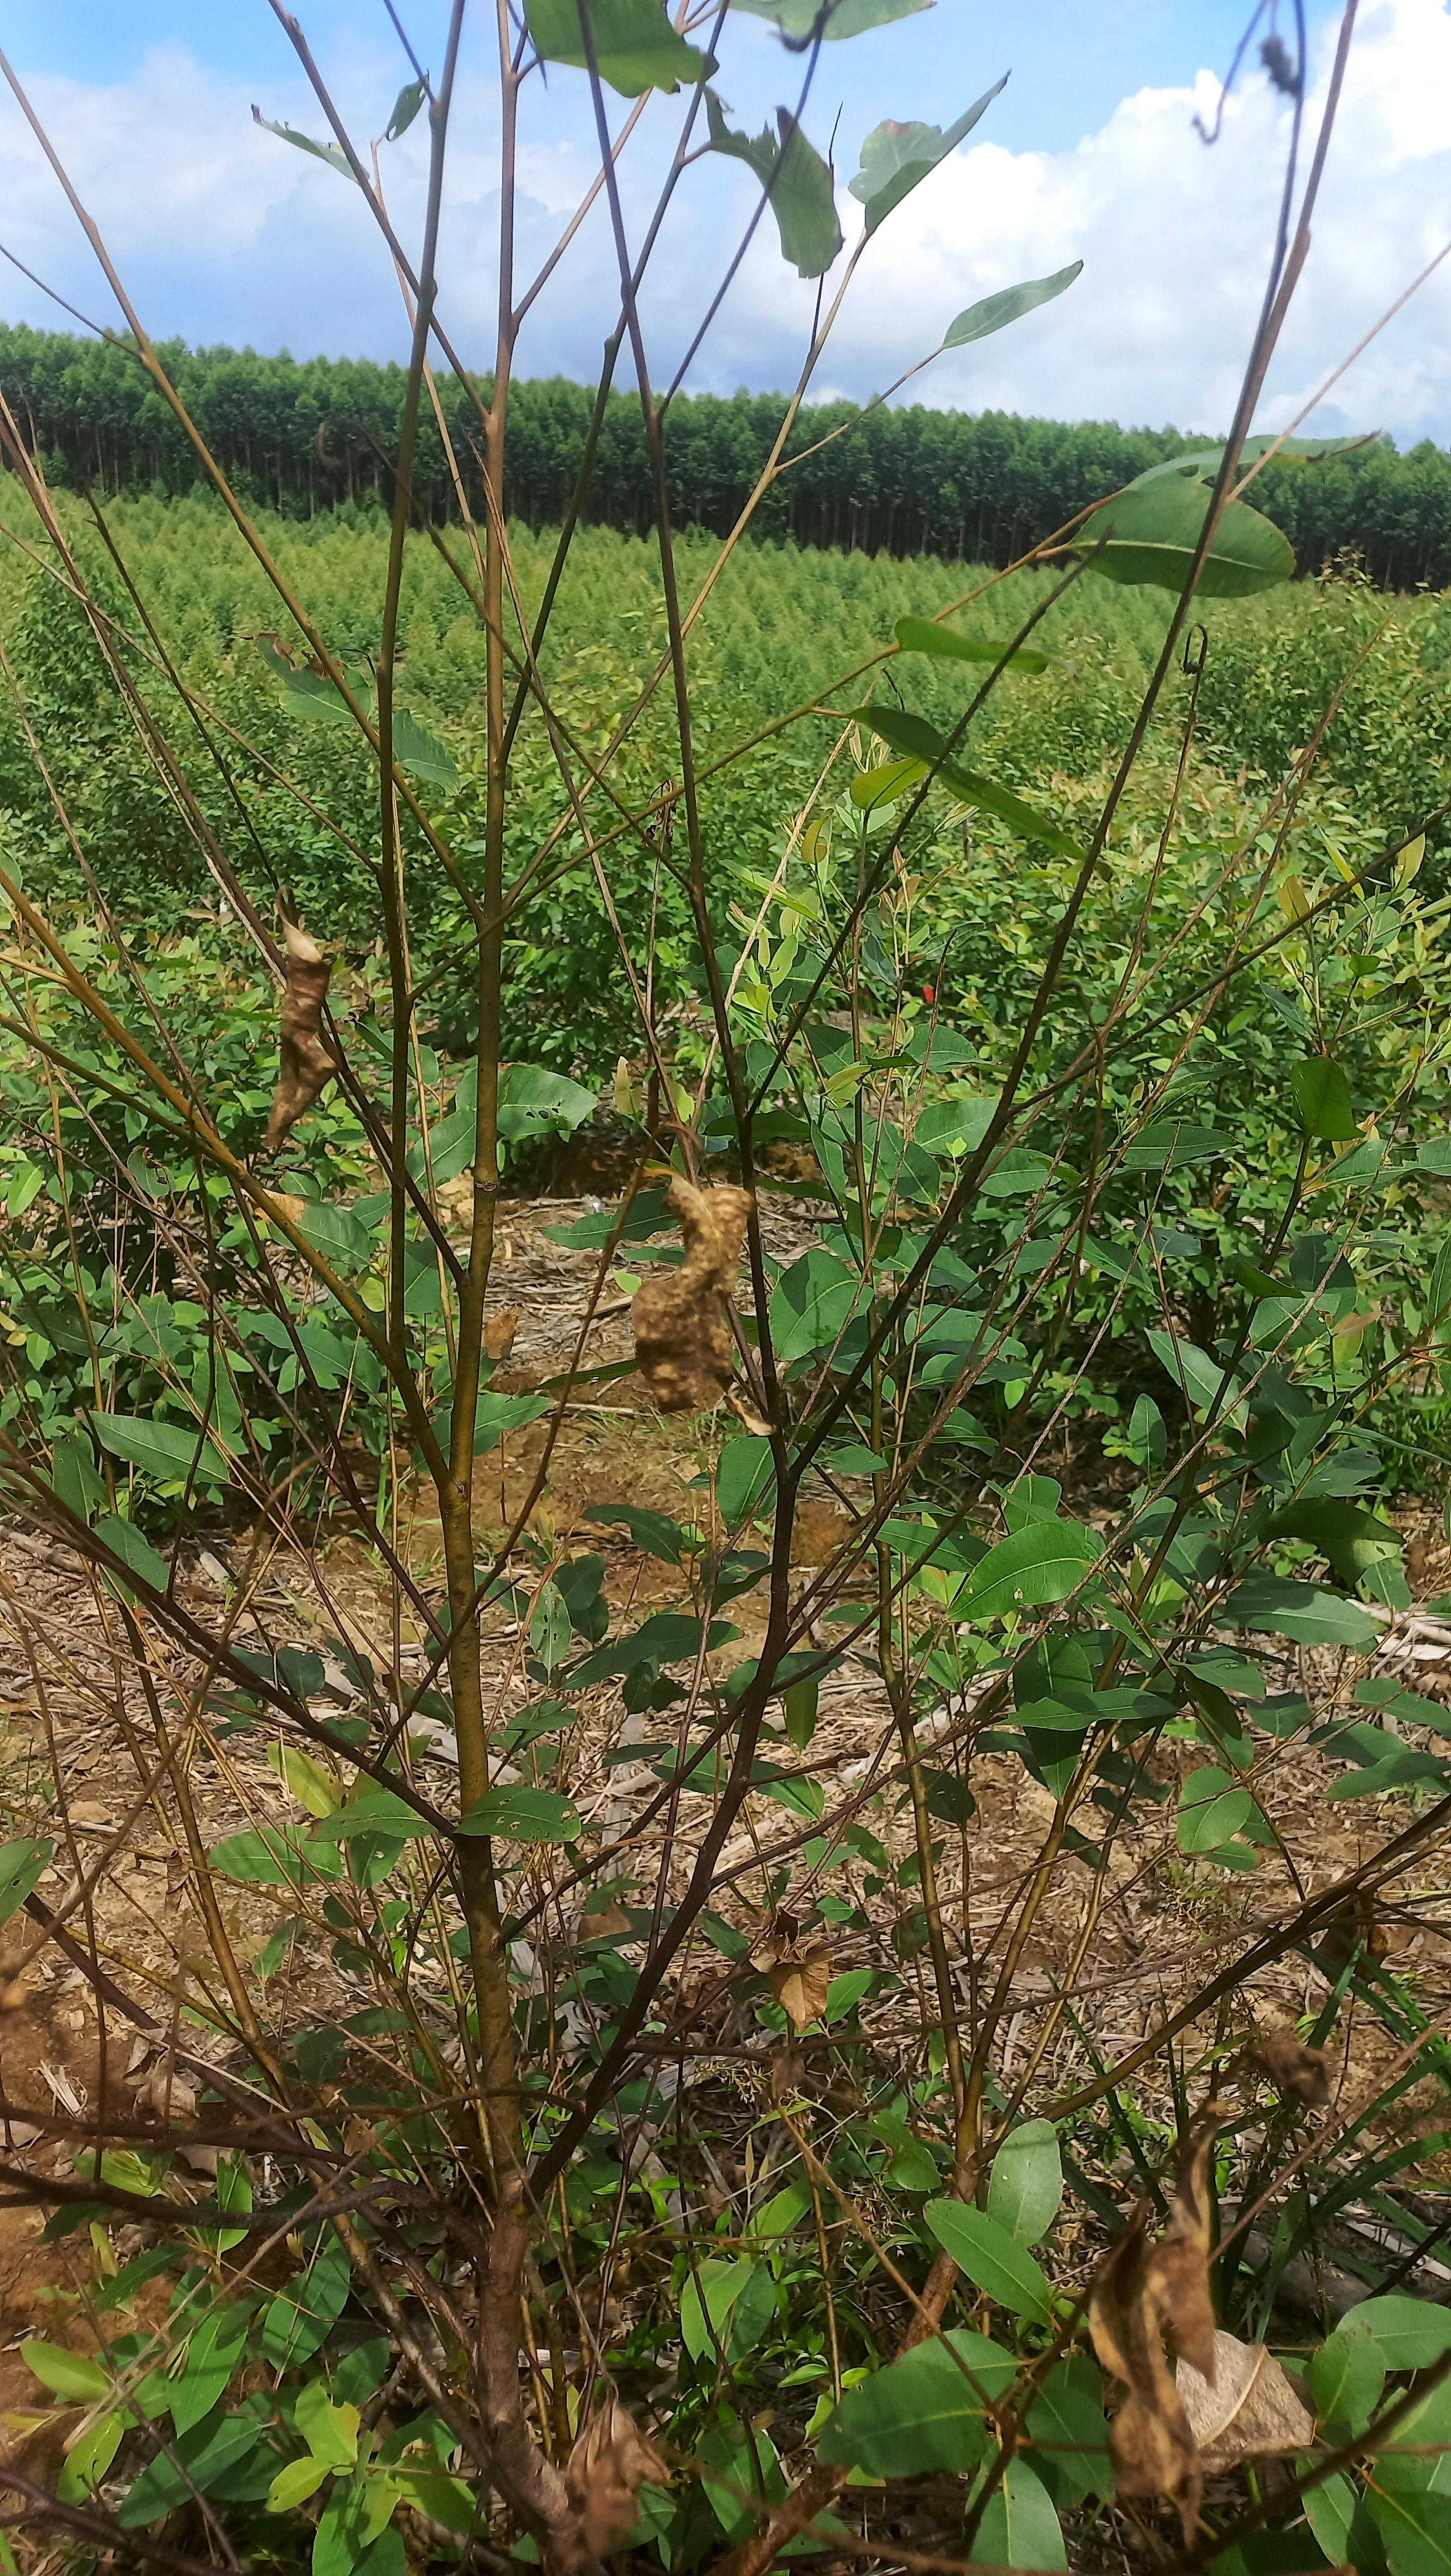Helopeltis-Withered Sprout: (1083, 2128, 1276, 2548), (630, 1171, 800, 1408), (241, 915, 345, 1159), (363, 67, 442, 157), (1255, 37, 1299, 106)
